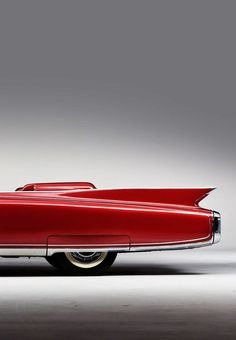car: (1, 173, 227, 281)
